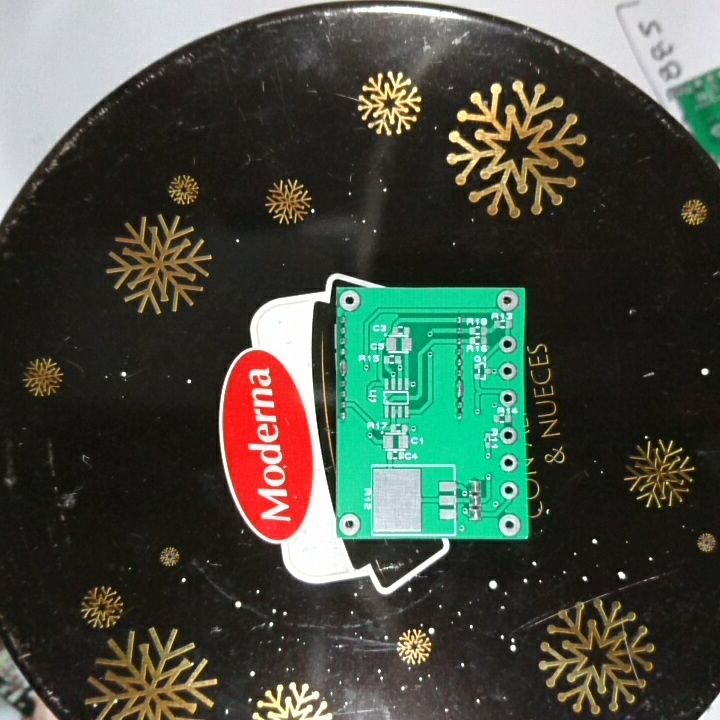F: (497, 512, 522, 538), (495, 289, 520, 314), (337, 511, 362, 536), (339, 289, 362, 313), (497, 424, 519, 448), (497, 360, 519, 382), (497, 453, 519, 475), (499, 334, 519, 356), (497, 387, 519, 407), (498, 480, 520, 500)
P: (452, 379, 466, 400), (338, 359, 350, 378)
